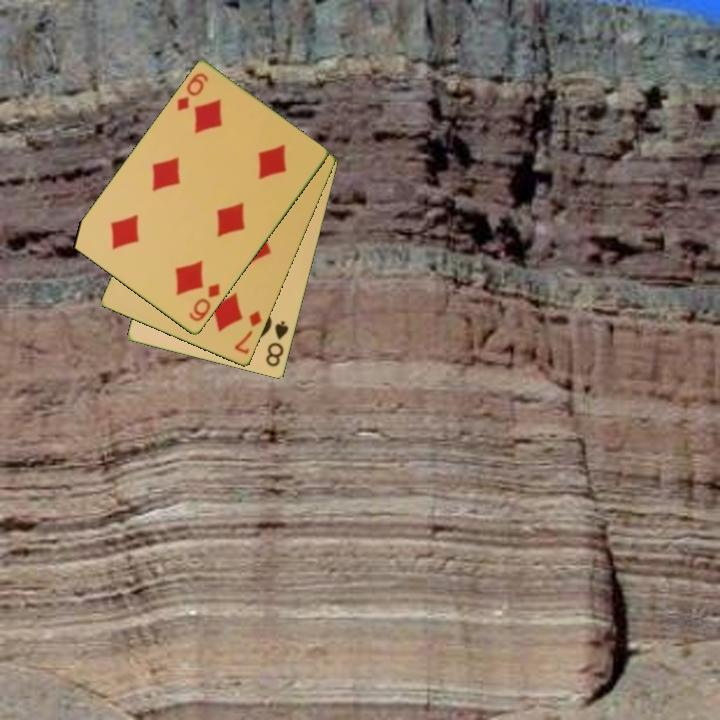6d: (185, 280, 223, 325), (173, 70, 211, 115)
7d: (231, 307, 265, 357)
8s: (262, 317, 292, 370)
